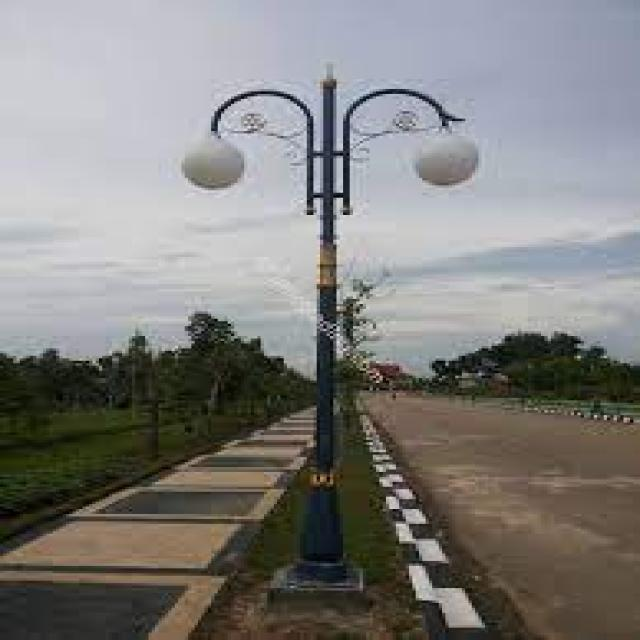Street Light: (182, 64, 478, 596)
